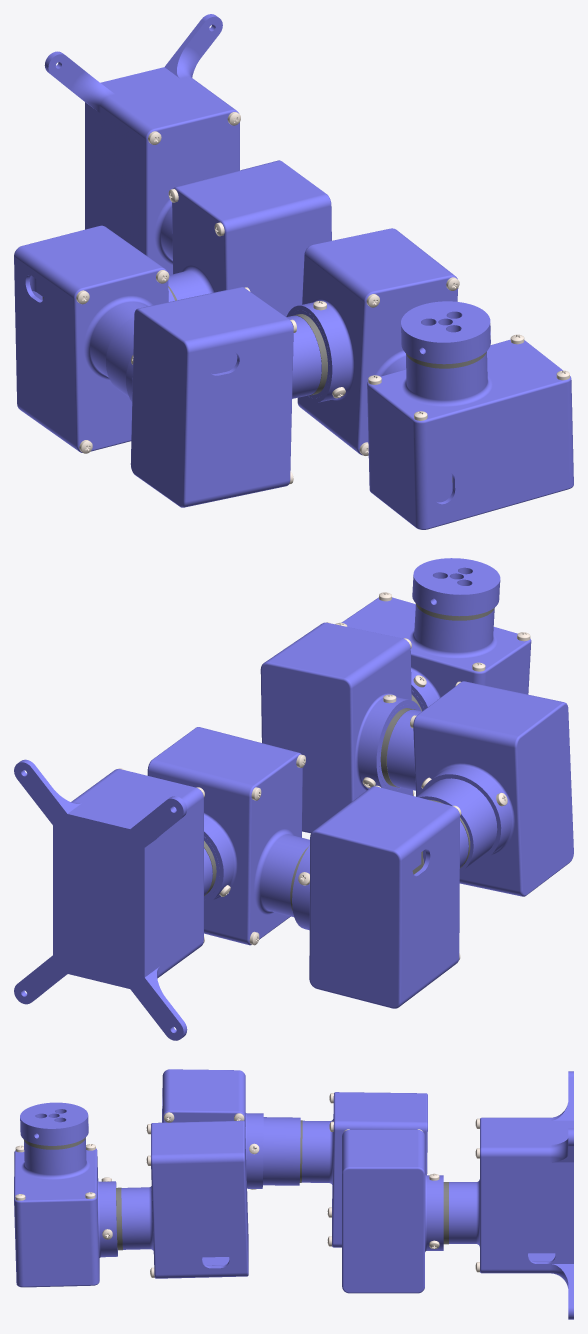
The model's file is multiple_degree_modular_robot_arm_glb.glb.
3 views of the same model, one above another, from view 1: azimuth 30°, elevation 25°; view 2: azimuth 150°, elevation 25°; view 3: azimuth 270°, elevation 25° (orthographic). The views are drawn at different scales.
Parts seen in each view (by area): view 1: bottom_v_03-5 - Part, bottom_v_03-6 - Part, bottom joint-1 - Part, bottom_v_03-4 - Part, bottom_v_03-1 - Part, bottom_v_03-3 - Part, top-6 - Part, top-4 - Part, top-1 - Part, top-3 - Part, top-2 - Part, TOP_BEARING.-6 - Part (+2 smaller); view 2: bottom joint-1 - Part, bottom_v_03-4 - Part, bottom_v_03-5 - Part, bottom_v_03-3 - Part, bottom_v_03-1 - Part, top-2 - Part, top-6 - Part, TOP_BEARING.-6 - Part, top-5 - Part, connector_bearing-1 - Part, bottom_v_03-6 - Part, top-4 - Part (+2 smaller); view 3: bottom_v_03-1 - Part, bottom joint-1 - Part, bottom_v_03-3 - Part, bottom_v_03-6 - Part, top-6 - Part, bottom_v_03-5 - Part, top-3 - Part, top-4 - Part, bottom_v_03-4 - Part, top-1 - Part, TOP_BEARING.-6 - Part, connector_bearing-1 - Part (+4 smaller).
Boxes of the visible parts, x1,y1,x2,y2 form: bottom_v_03-5 - Part: [126, 288, 284, 507]; bottom_v_03-6 - Part: [367, 388, 573, 529]; bottom joint-1 - Part: [44, 14, 230, 251]; bottom_v_03-4 - Part: [14, 225, 174, 447]; bottom_v_03-1 - Part: [184, 160, 331, 316]; bottom_v_03-3 - Part: [286, 228, 449, 449]; top-6 - Part: [367, 339, 571, 432]; top-4 - Part: [68, 264, 168, 452]; top-1 - Part: [140, 106, 239, 275]; top-3 - Part: [352, 271, 458, 455]; top-2 - Part: [168, 185, 236, 300]; TOP_BEARING.-6 - Part: [401, 301, 490, 364]; bottom joint-1 - Part: [14, 759, 198, 1040]; bottom_v_03-4 - Part: [292, 790, 454, 1008]; bottom_v_03-5 - Part: [420, 683, 573, 896]; bottom_v_03-3 - Part: [260, 626, 420, 833]; bottom_v_03-1 - Part: [147, 727, 290, 942]; top-2 - Part: [238, 750, 309, 945]; top-6 - Part: [341, 597, 531, 682]; TOP_BEARING.-6 - Part: [412, 558, 500, 616]; top-5 - Part: [387, 681, 471, 796]; connector_bearing-1 - Part: [417, 778, 497, 872]; bottom_v_03-6 - Part: [411, 651, 530, 709]; top-4 - Part: [367, 786, 468, 965]; bottom_v_03-1 - Part: [342, 1133, 443, 1293]; bottom joint-1 - Part: [489, 1071, 573, 1319]; bottom_v_03-3 - Part: [160, 1120, 248, 1278]; bottom_v_03-6 - Part: [14, 1162, 117, 1287]; top-6 - Part: [14, 1139, 97, 1209]; bottom_v_03-5 - Part: [162, 1069, 263, 1188]; top-3 - Part: [121, 1122, 163, 1278]; top-4 - Part: [301, 1092, 342, 1247]; bottom_v_03-4 - Part: [341, 1092, 427, 1247]; top-1 - Part: [449, 1117, 488, 1273]; TOP_BEARING.-6 - Part: [20, 1102, 88, 1145]; connector_bearing-1 - Part: [263, 1117, 300, 1185].
Size of the model in its own units: 0.146 by 0.1168 by 0.3035.
